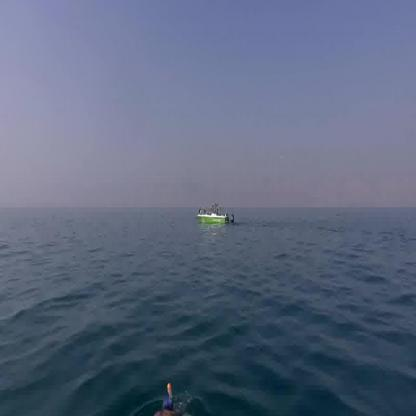Boat: (198, 200, 231, 228)
